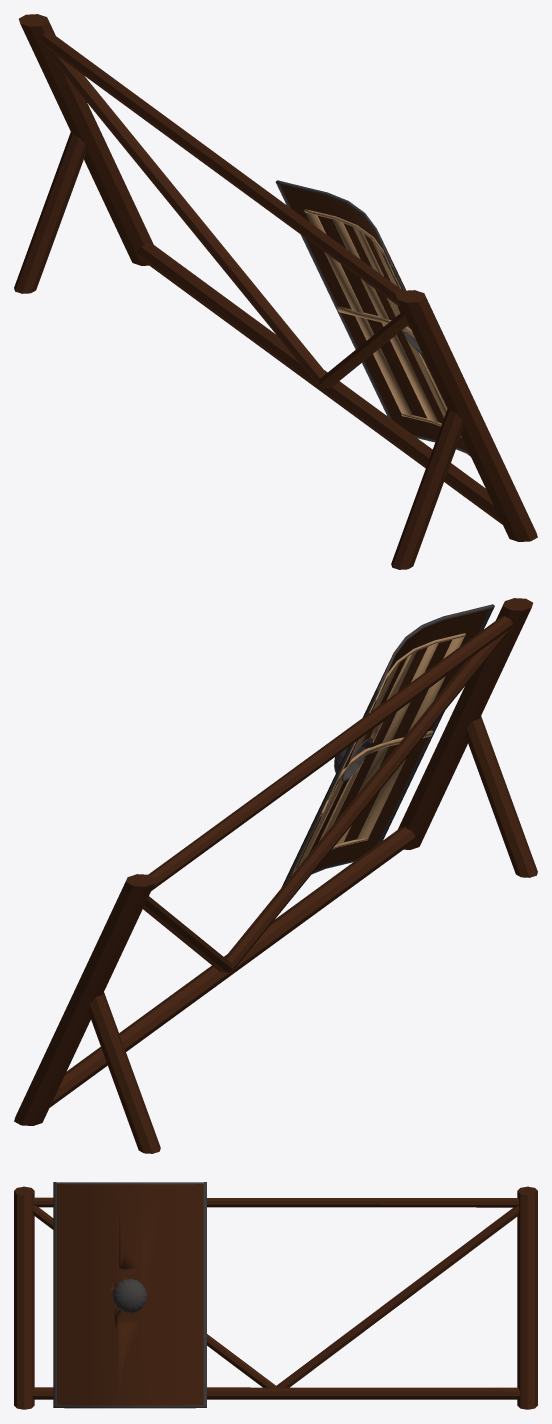
The model's file is Scutum Ständer Ver 1.fbx.
3 views of the same model, one above another, from view 1: azimuth 30°, elevation 25°; view 2: azimuth 150°, elevation 25°; view 3: azimuth 270°, elevation 25° (orthographic). The views are drawn at different scales.
Parts seen in each view (by area): view 1: Scutum Ständer Ver 1; view 2: Scutum Ständer Ver 1; view 3: Scutum Ständer Ver 1.
Boxes of the visible parts, bbox=[...] form: Scutum Ständer Ver 1: bbox=[14, 14, 537, 569]; Scutum Ständer Ver 1: bbox=[14, 598, 537, 1153]; Scutum Ständer Ver 1: bbox=[14, 1182, 537, 1409].
Size of the model in its own units: 57.45 by 97.83 by 239.
